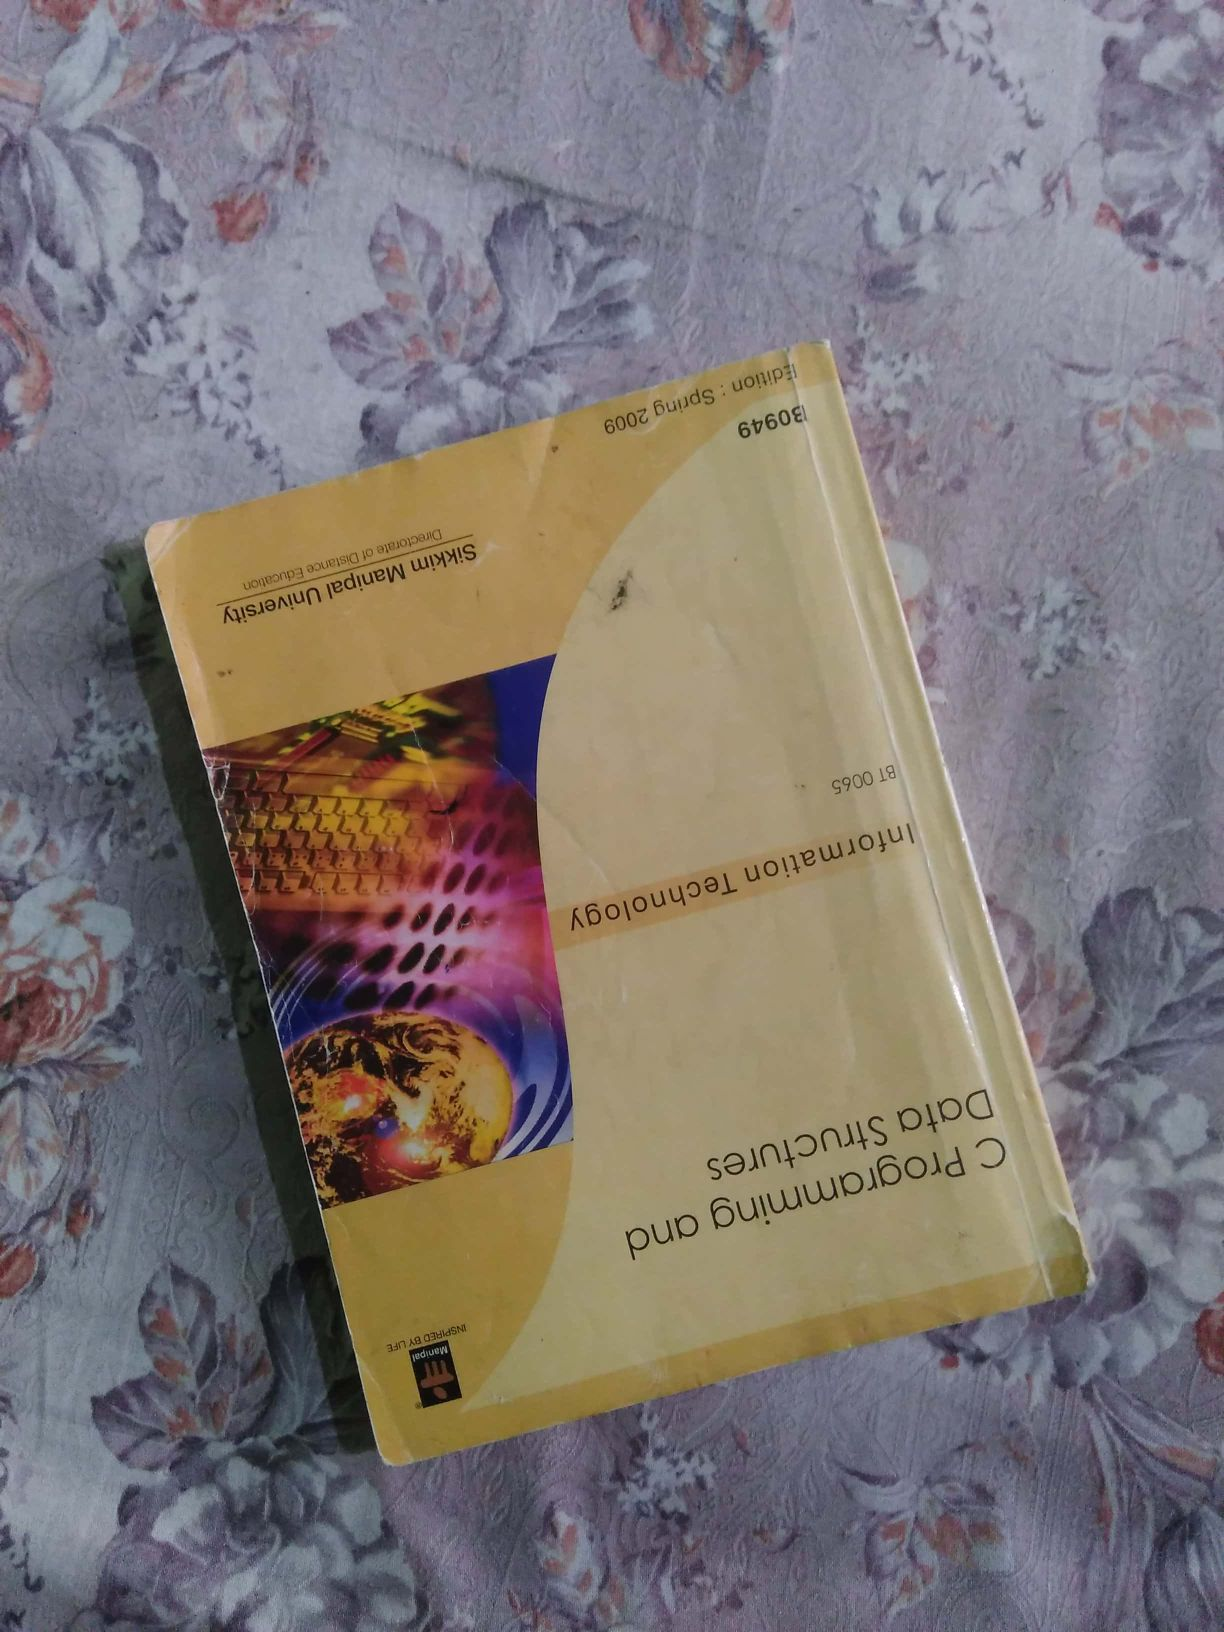clang: (131, 356, 1170, 1446)
